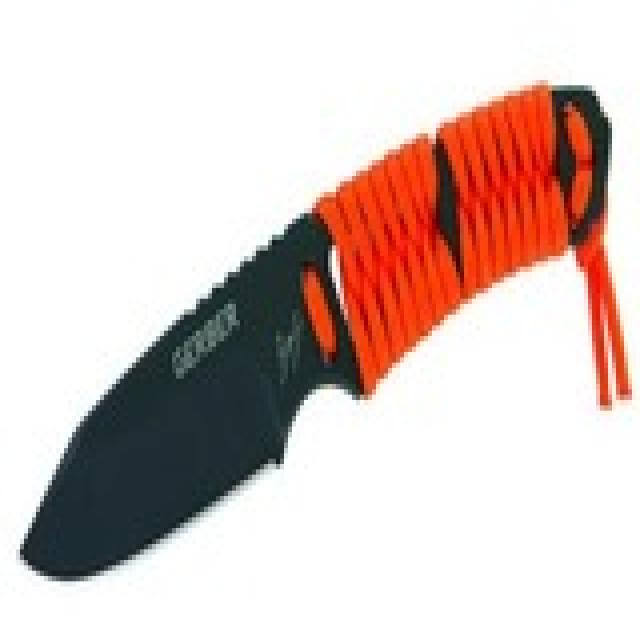Knife: (14, 85, 616, 592)
